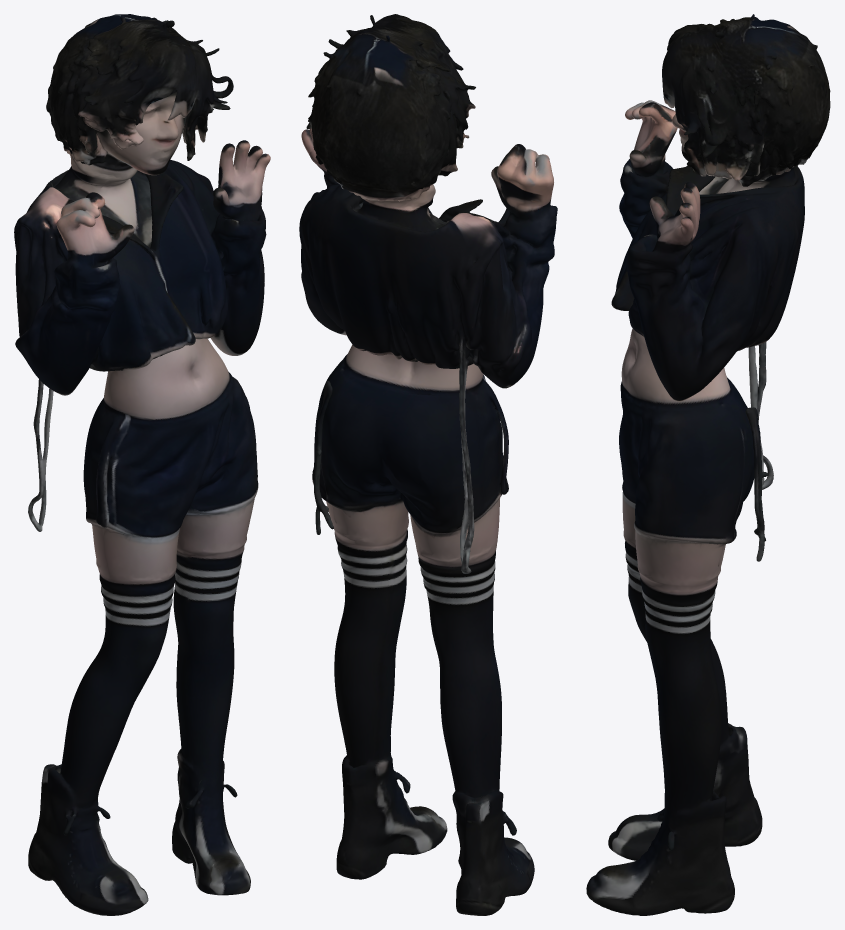
Rendered from enemies.glb.
The picture shows the model from 3 angles, left to right: view 1: azimuth 30°, elevation 25°; view 2: azimuth 150°, elevation 25°; view 3: azimuth 270°, elevation 25°; orthographic projection. The views are drawn at different scales.
Parts seen in each view (by area): view 1: tripo_node_3589cb2c-eccd-451b-a9c6-1587e224fb74; view 2: tripo_node_3589cb2c-eccd-451b-a9c6-1587e224fb74; view 3: tripo_node_3589cb2c-eccd-451b-a9c6-1587e224fb74.
Boxes of the visible parts, x1,y1,x2,y2 form: tripo_node_3589cb2c-eccd-451b-a9c6-1587e224fb74: (14,14,270,915); tripo_node_3589cb2c-eccd-451b-a9c6-1587e224fb74: (299,14,557,915); tripo_node_3589cb2c-eccd-451b-a9c6-1587e224fb74: (586,14,830,915).
Bounding box in the file's own units: 0.2897 × 1 × 0.2543.
1 material, 1 textured.
